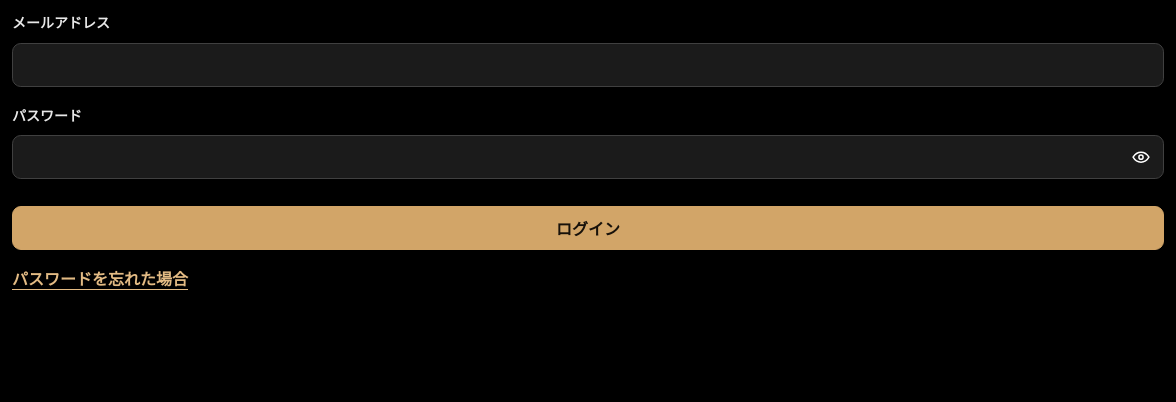
LoginForm › shows the same focused generic error for every rejection
Type "missing@example.invalid" into the field labelled "メールアドレス".
click(588, 65); type("missing@example.invalid")  # box x1=12 y1=43 x2=1164 y2=87
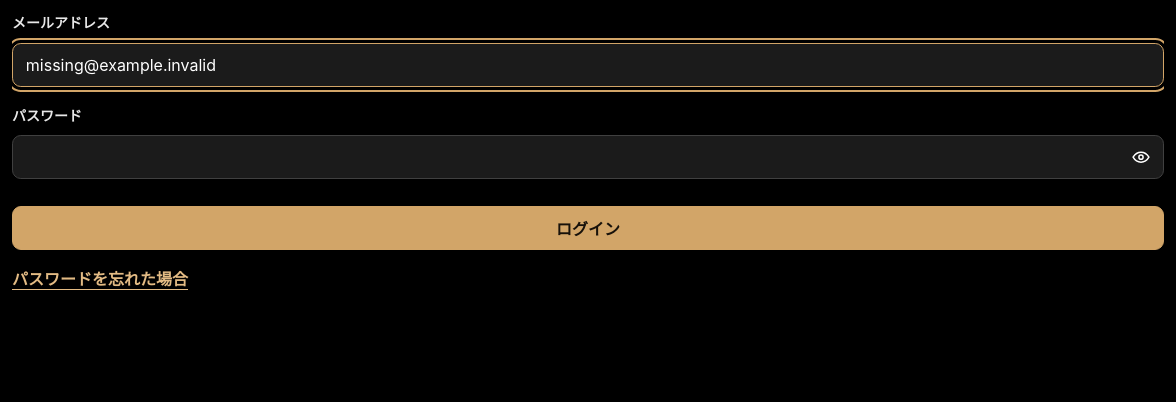
Type "wrong-password" into the password field labelled "パスワード".
click(588, 157); type("wrong-password")  # box x1=12 y1=135 x2=1164 y2=179
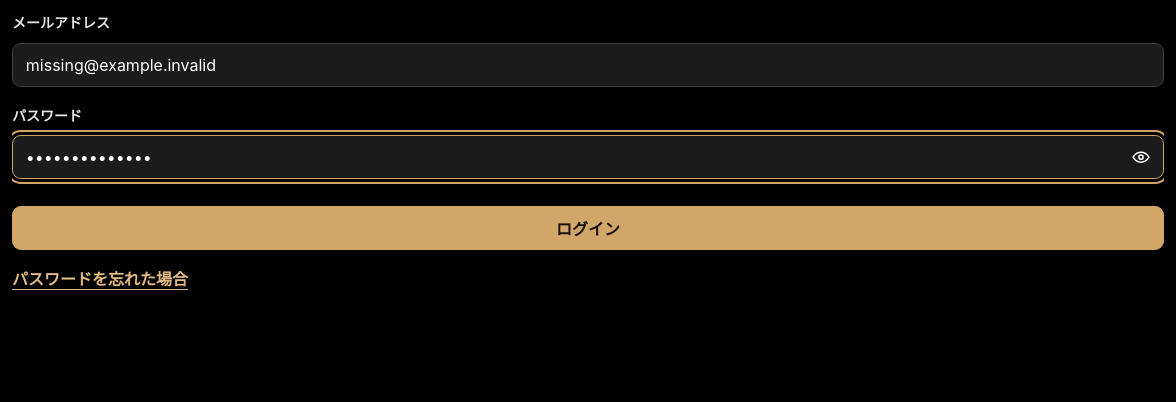
Click the button "ログイン".
click(588, 228)  # box x1=12 y1=206 x2=1164 y2=250
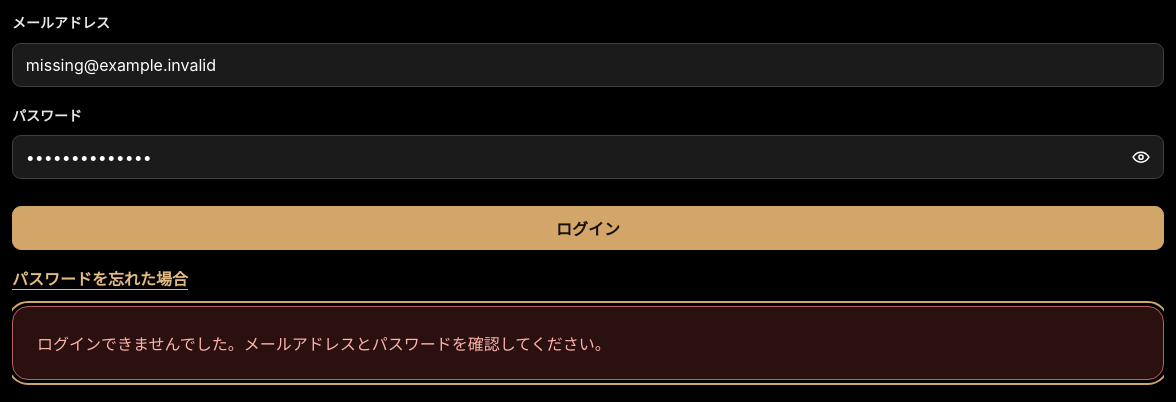
Now the message reads "ログインできませんでした。メールアドレスとパスワードを確認してください。", box x1=37 y1=334 x2=611 y2=354
